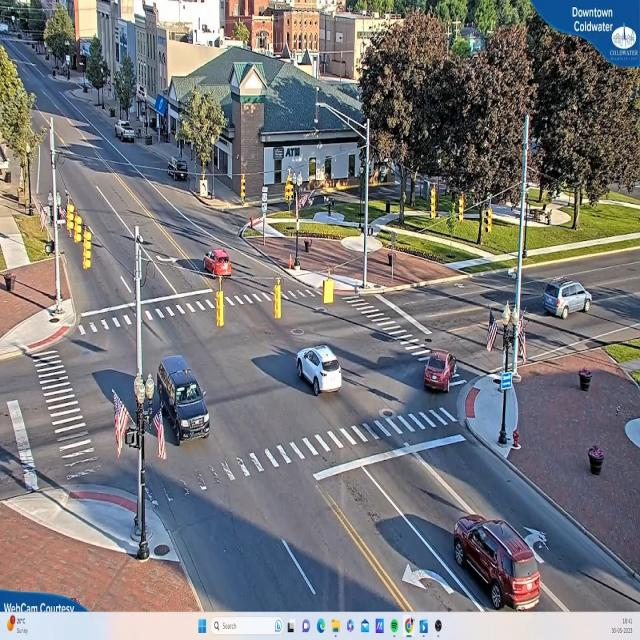car: (454, 518, 542, 612), (158, 358, 215, 443), (294, 344, 342, 397), (542, 278, 592, 318), (424, 352, 456, 392), (203, 250, 236, 280), (166, 160, 189, 180), (116, 123, 136, 143)
